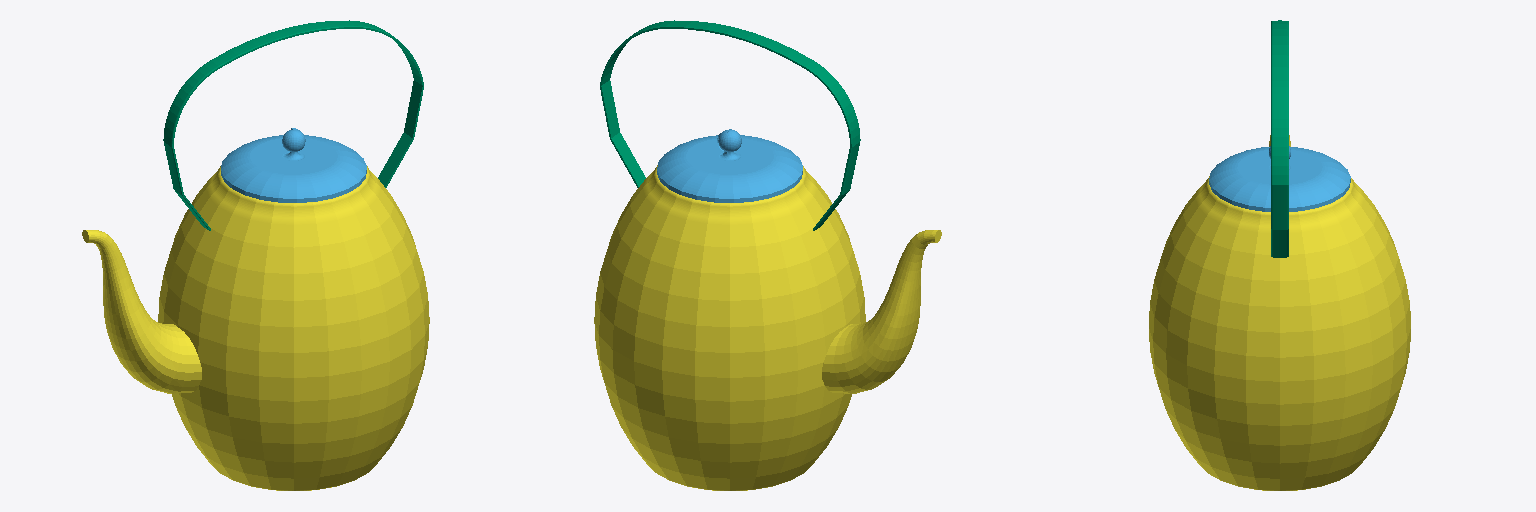
The robot description file, URDF, robot "partnet_31cb7cfa7e11be397ec728abdd798547":
<?xml version="1.0" ?>
<robot name="partnet_31cb7cfa7e11be397ec728abdd798547">
	<link name="base"/>
	<link name="link_0">
		<visual name="lid-1">
			<origin xyz="0 0 0"/>
			<geometry>
				<mesh filename="textured_objs/original-6.obj"/>
			</geometry>
		</visual>
		<collision>
			<origin xyz="0 0 0"/>
			<geometry>
				<mesh filename="textured_objs/original-6.obj"/>
			</geometry>
		</collision>
	</link>
	<joint name="joint_0" type="prismatic">
		<origin xyz="0 0 0"/>
		<axis xyz="0 1 0"/>
		<child link="link_0"/>
		<parent link="link_2"/>
		<limit lower="0" upper="0.01"/>
	</joint>
	<link name="link_1">
		<visual name="handle-2">
			<origin xyz="0.006064548343419969 -0.31469476180450895 0"/>
			<geometry>
				<mesh filename="textured_objs/original-4.obj"/>
			</geometry>
		</visual>
		<collision>
			<origin xyz="0.006064548343419969 -0.31469476180450895 0"/>
			<geometry>
				<mesh filename="textured_objs/original-4.obj"/>
			</geometry>
		</collision>
	</link>
	<joint name="joint_1" type="revolute">
		<origin xyz="-0.006064548343419969 0.31469476180450895 0"/>
		<axis xyz="0 0 -1"/>
		<child link="link_1"/>
		<parent link="link_2"/>
		<limit lower="-2.2689280275926285" upper="2.2689280275926285"/>
	</joint>
	<link name="link_2">
		<visual name="base_body-3">
			<origin xyz="0 0 0"/>
			<geometry>
				<mesh filename="textured_objs/original-3.obj"/>
			</geometry>
		</visual>
		<visual name="base_body-3">
			<origin xyz="0 0 0"/>
			<geometry>
				<mesh filename="textured_objs/original-2.obj"/>
			</geometry>
		</visual>
		<visual name="base_body-3">
			<origin xyz="0 0 0"/>
			<geometry>
				<mesh filename="textured_objs/original-5.obj"/>
			</geometry>
		</visual>
		<collision>
			<origin xyz="0 0 0"/>
			<geometry>
				<mesh filename="textured_objs/original-3.obj"/>
			</geometry>
		</collision>
		<collision>
			<origin xyz="0 0 0"/>
			<geometry>
				<mesh filename="textured_objs/original-2.obj"/>
			</geometry>
		</collision>
		<collision>
			<origin xyz="0 0 0"/>
			<geometry>
				<mesh filename="textured_objs/original-5.obj"/>
			</geometry>
		</collision>
	</link>
	<joint name="joint_2" type="fixed">
		<origin rpy="1.570796326794897 0 -1.570796326794897" xyz="0 0 0"/>
		<child link="link_2"/>
		<parent link="base"/>
	</joint>
</robot>

--- Render facts (derived) ---
3 views of the same robot in one strip: view 1: azimuth 30°, elevation 25°; view 2: azimuth 150°, elevation 25°; view 3: azimuth 270°, elevation 25° (orthographic).
Robot: partnet_31cb7cfa7e11be397ec728abdd798547 — 4 links, 3 joints (1 revolute, 1 prismatic, 1 fixed); root link base; default pose: every joint at zero.
Visible links, largest first — view 1: link_2, link_0, link_1; view 2: link_2, link_0, link_1; view 3: link_2, link_0, link_1.
Boxes of the visible links, <box> form: link_2: <box>82,166,429,490</box>; link_0: <box>221,128,366,202</box>; link_1: <box>163,20,423,230</box>; link_2: <box>594,165,941,490</box>; link_0: <box>657,129,802,202</box>; link_1: <box>600,20,860,230</box>; link_2: <box>1149,135,1410,490</box>; link_0: <box>1209,146,1350,211</box>; link_1: <box>1271,20,1288,257</box>.
Bounding box of the posed robot: 1.36 × 0.9541 × 1.65 m (x, y, z).
5 mesh visuals loaded from 5 distinct referenced files (5 OBJ).